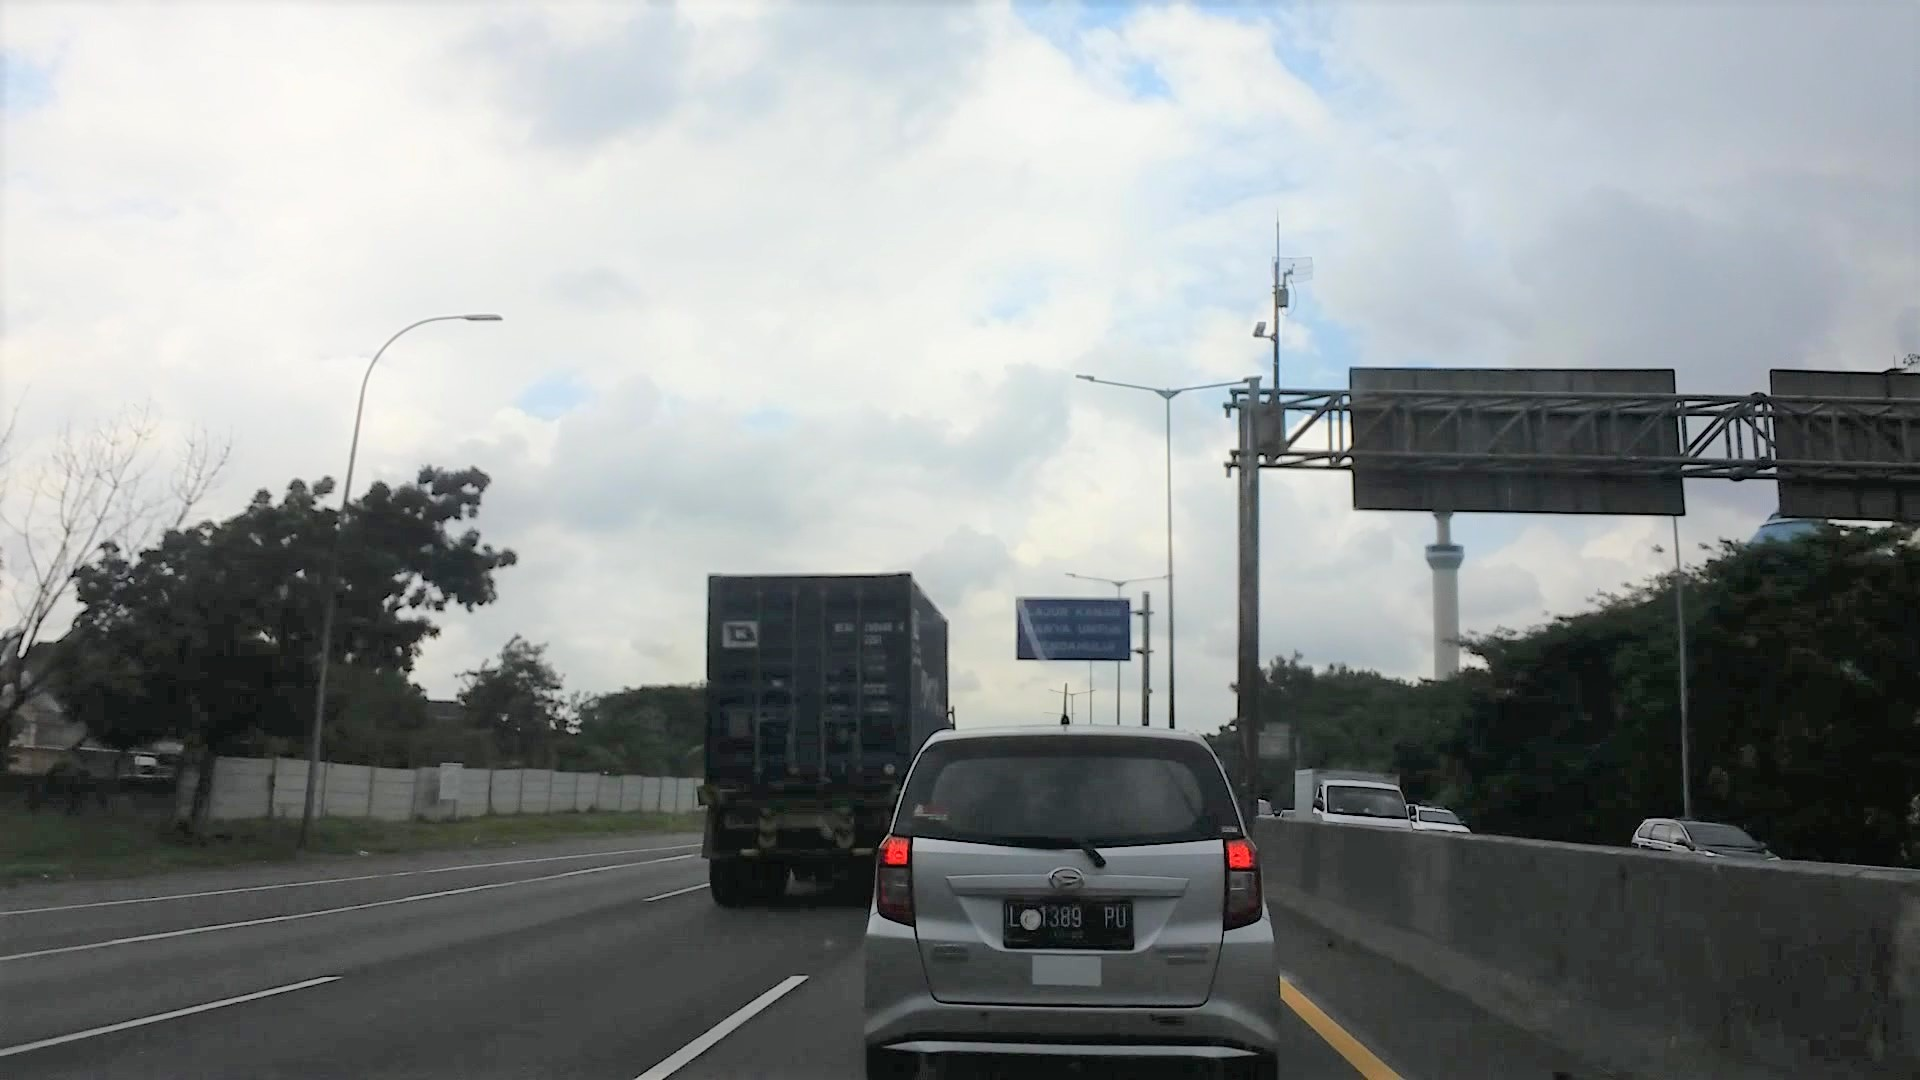plate_positive: (1004, 898, 1134, 949)
